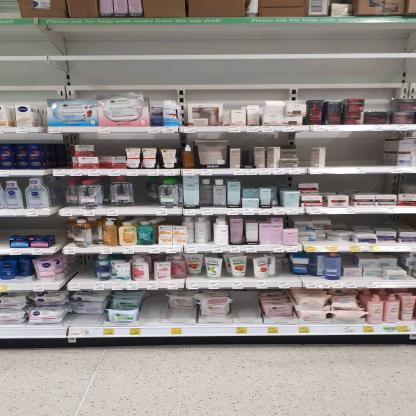Void: (330, 132, 383, 165), (331, 174, 406, 196), (332, 215, 413, 230), (232, 131, 293, 147), (6, 220, 62, 236), (1, 133, 69, 146), (233, 291, 261, 322), (93, 132, 129, 154), (66, 255, 94, 282), (136, 134, 187, 148), (244, 174, 296, 187), (145, 292, 163, 324), (164, 308, 193, 325), (76, 310, 96, 326)
